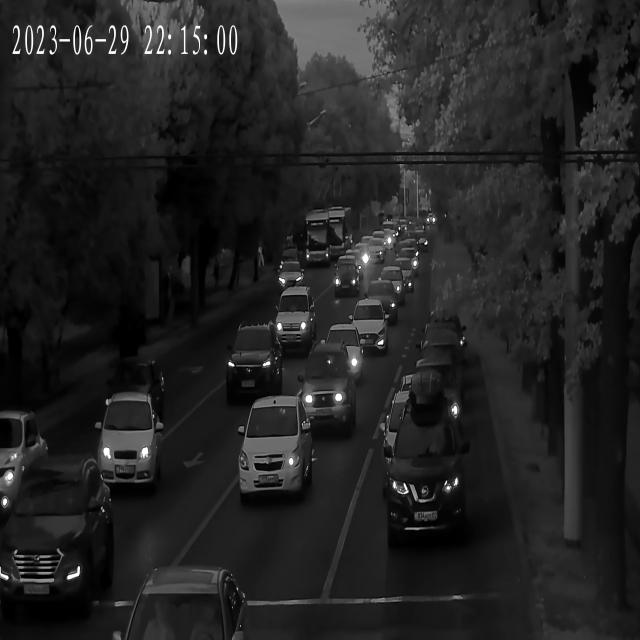Bus: (302, 208, 354, 265)
Car: (2, 464, 115, 604), (385, 394, 469, 544), (111, 568, 249, 640), (88, 389, 170, 494), (235, 396, 313, 501), (294, 349, 354, 428), (224, 328, 285, 404), (0, 406, 49, 495), (396, 368, 464, 431), (392, 396, 466, 451), (338, 299, 391, 356), (271, 289, 316, 351), (322, 326, 367, 386), (405, 354, 462, 394), (418, 335, 465, 372), (358, 283, 398, 326), (422, 318, 469, 354), (371, 267, 408, 305), (334, 262, 364, 296), (384, 258, 414, 286), (277, 264, 305, 290), (337, 251, 367, 275), (392, 250, 421, 274), (353, 239, 382, 262), (394, 240, 420, 261), (406, 232, 429, 253), (363, 235, 388, 254)
